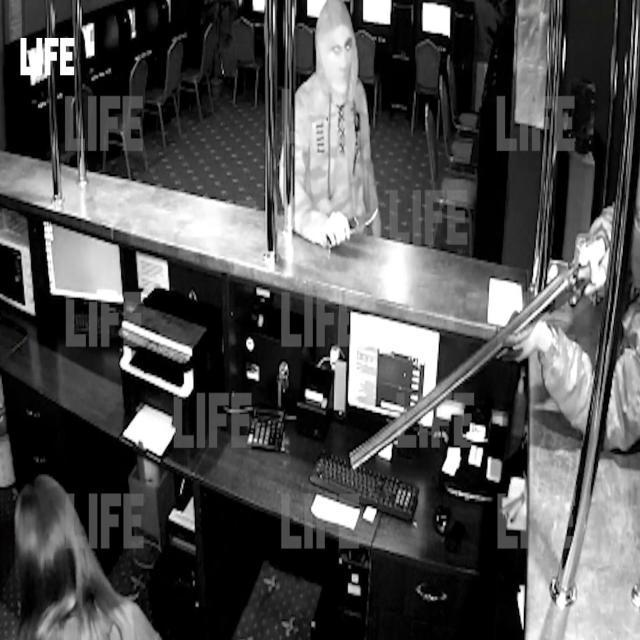pistol: (348, 236, 611, 477)
